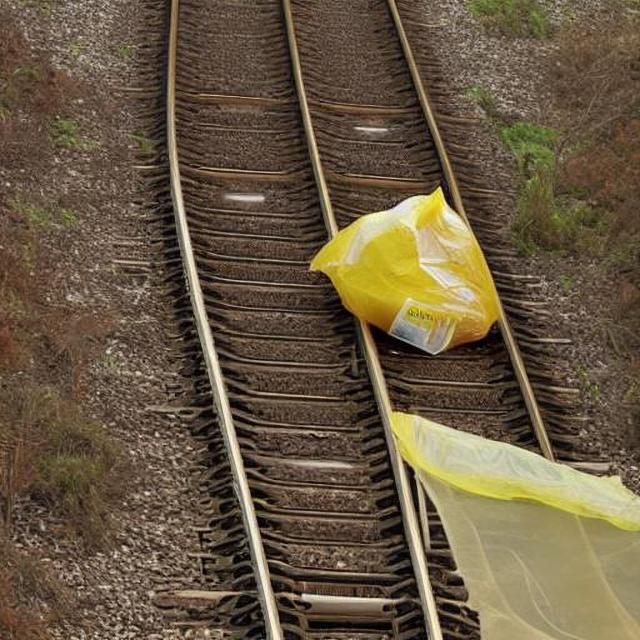plastic bag: (395, 410, 634, 640), (303, 193, 513, 364)
